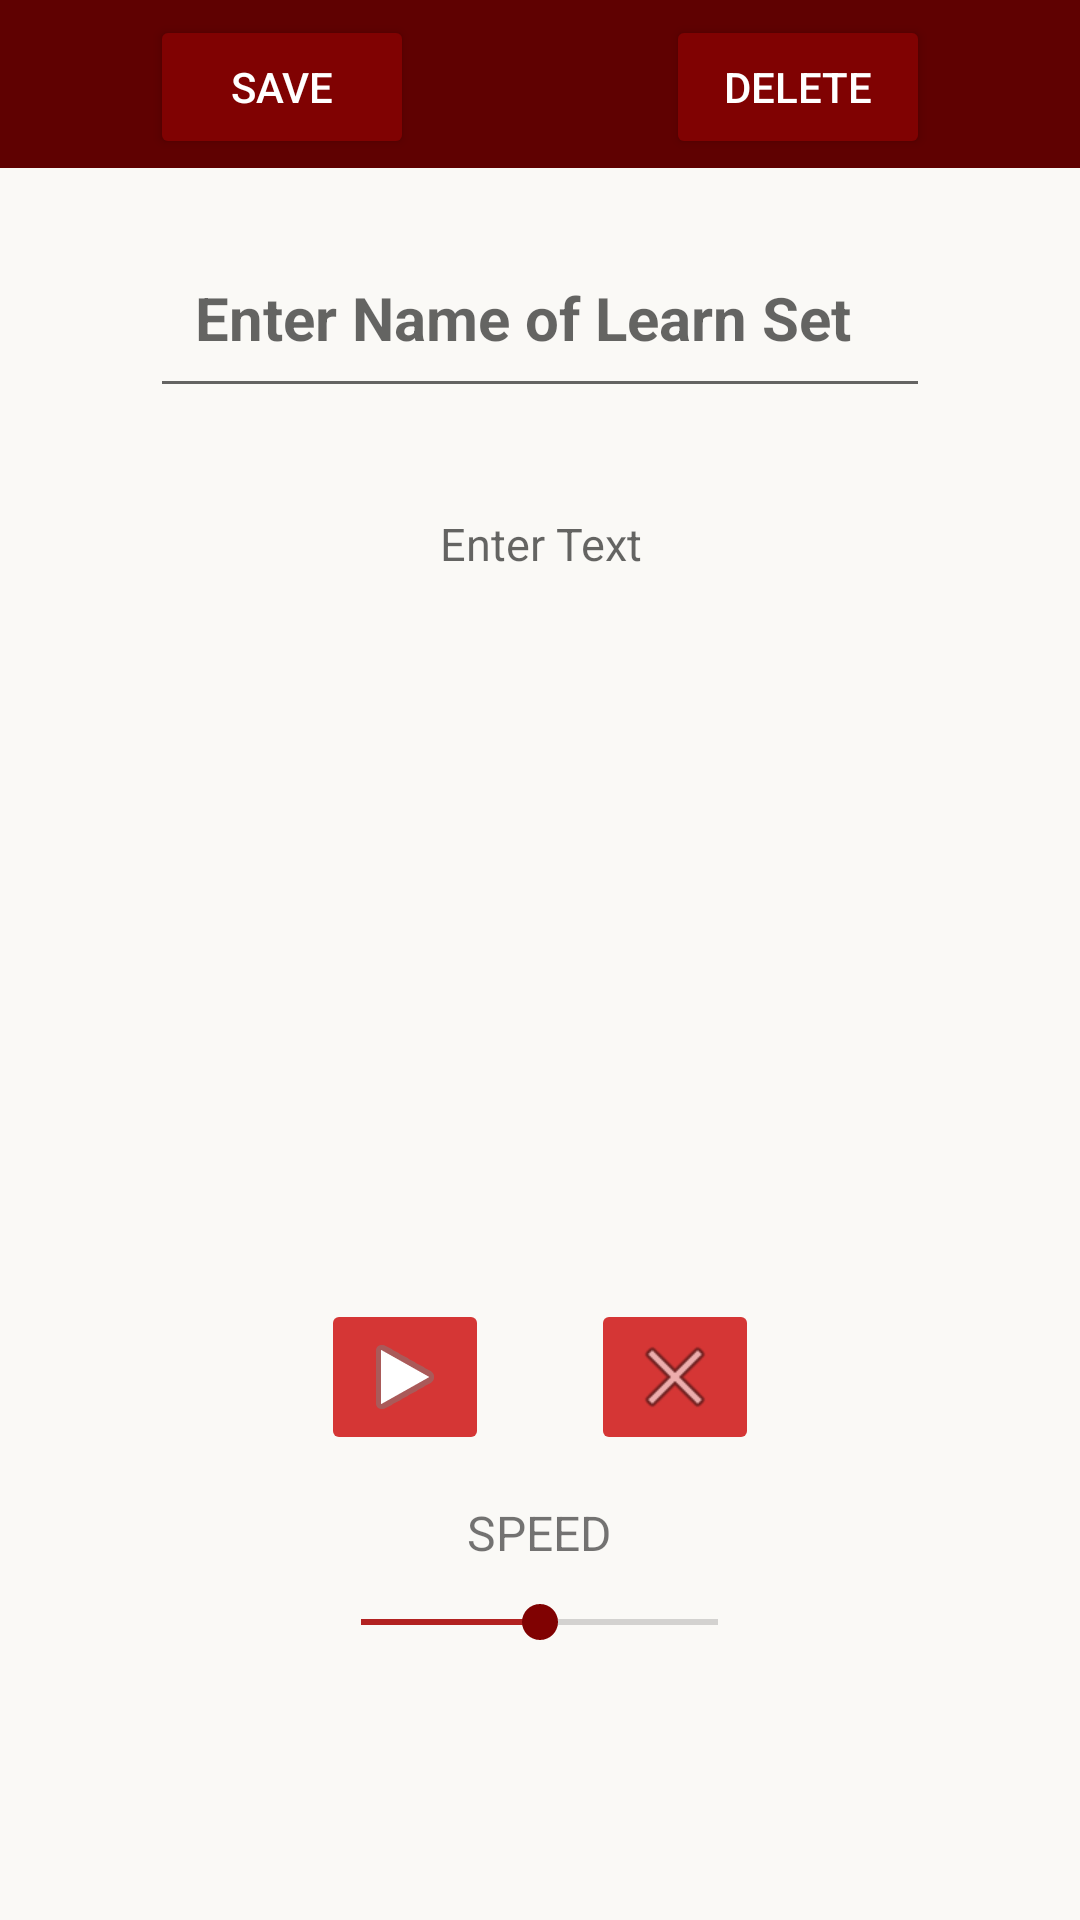

Where icons sit on this 1080×1920 app screen, as Rect(x1, y1, x2, y2):
close clear cancel: Rect(603, 1317, 747, 1437)
